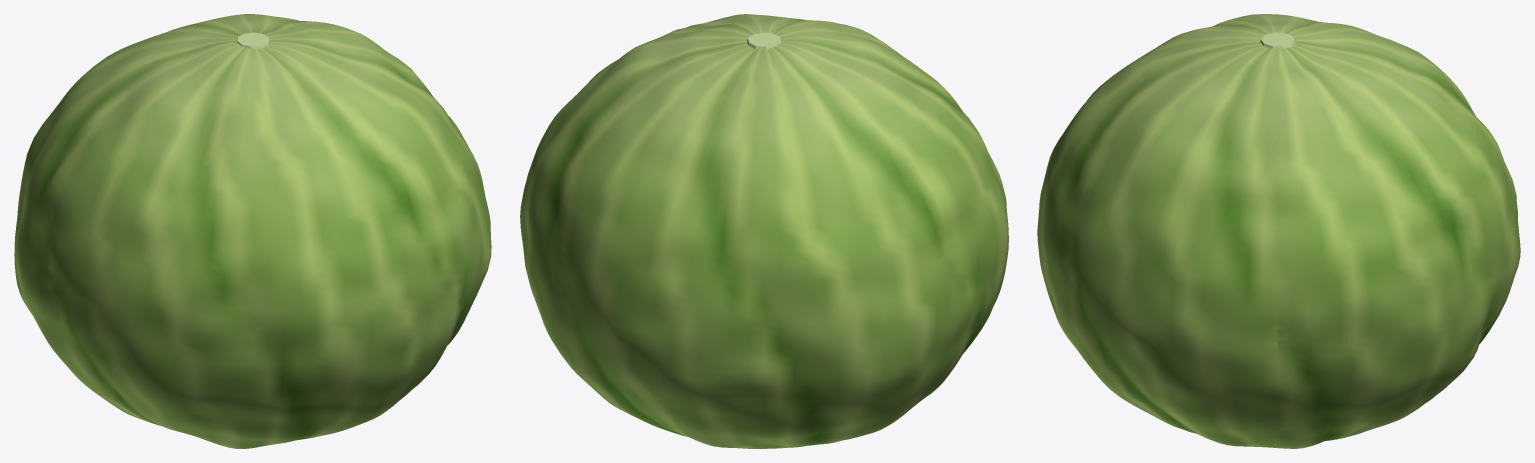
Rendered from chou-blanc.glb.
3 renders of one model, left to right at view 1: azimuth 30°, elevation 25°; view 2: azimuth 150°, elevation 25°; view 3: azimuth 270°, elevation 25°, orthographic.
Parts seen in each view (by area): view 1: entier_peau, moitie_B_peau, moitie_A_peau; view 2: entier_peau, moitie_A_peau, moitie_B_peau, entier_extra0; view 3: entier_peau, moitie_A_peau, moitie_B_peau, entier_extra0.
Boxes of the visible parts, bbox=[...] form: entier_peau: bbox=[14, 14, 491, 448]; moitie_B_peau: bbox=[50, 33, 490, 448]; moitie_A_peau: bbox=[14, 14, 403, 404]; entier_peau: bbox=[520, 14, 1008, 448]; moitie_A_peau: bbox=[520, 33, 971, 448]; moitie_B_peau: bbox=[654, 14, 1007, 388]; entier_extra0: bbox=[747, 32, 781, 49]; entier_peau: bbox=[1037, 14, 1520, 448]; moitie_A_peau: bbox=[1278, 15, 1520, 448]; moitie_B_peau: bbox=[1037, 14, 1277, 446]; entier_extra0: bbox=[1260, 32, 1295, 48].
Bounding box in the file's own units: 2.05 × 1.81 × 2.08.
